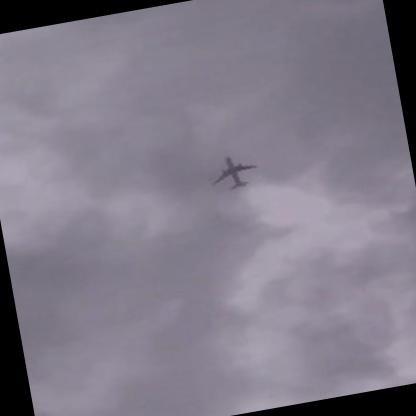plane: (202, 146, 261, 195)
